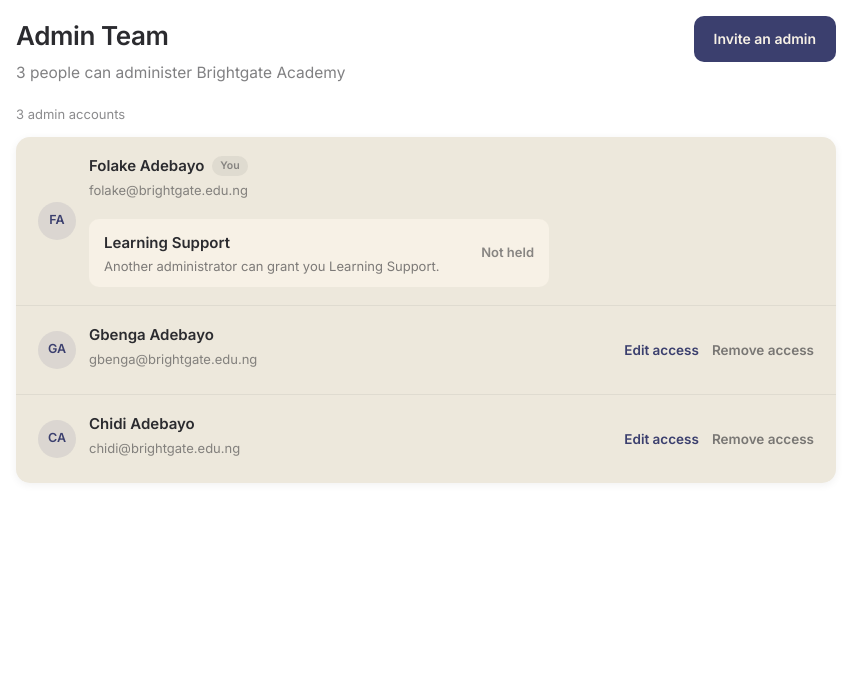
Test: taking access away from the only holder › says what to do
The width and height of the screenshot is (853, 684).
Expected: the text "Gbenga Adebayo" is shown, [89, 324, 214, 346]
Click the button "Remove access" in the row of "gbenga@brightgate.edu.ng" at (763, 350), box [712, 340, 814, 360]
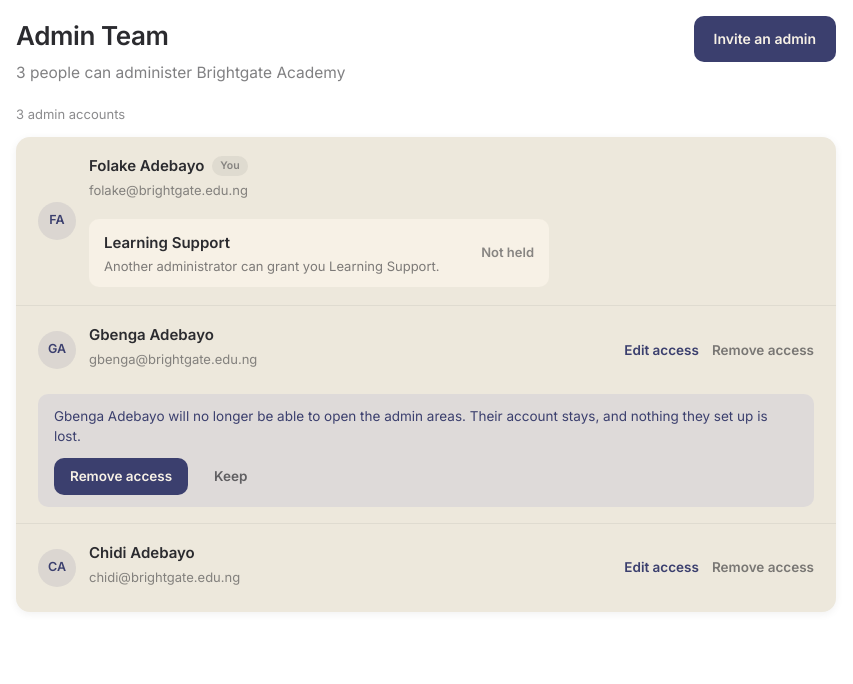
Click the 2nd button "Remove access" at (121, 477), box [54, 458, 188, 495]
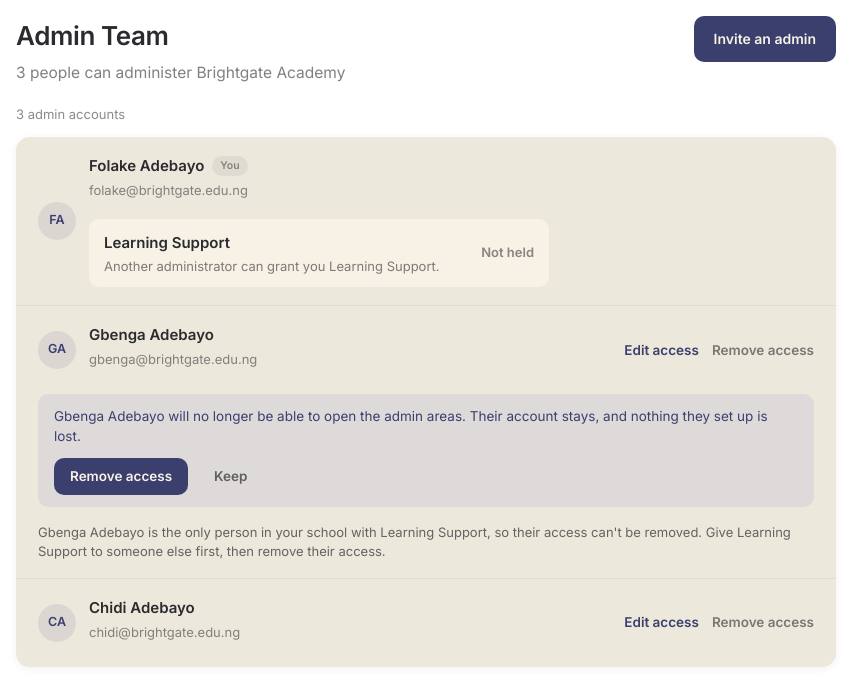
Now the text "Gbenga Adebayo is the only person in your school with Learning Support, so their access can't be removed. Give Learning " is shown, box [38, 524, 791, 559]
